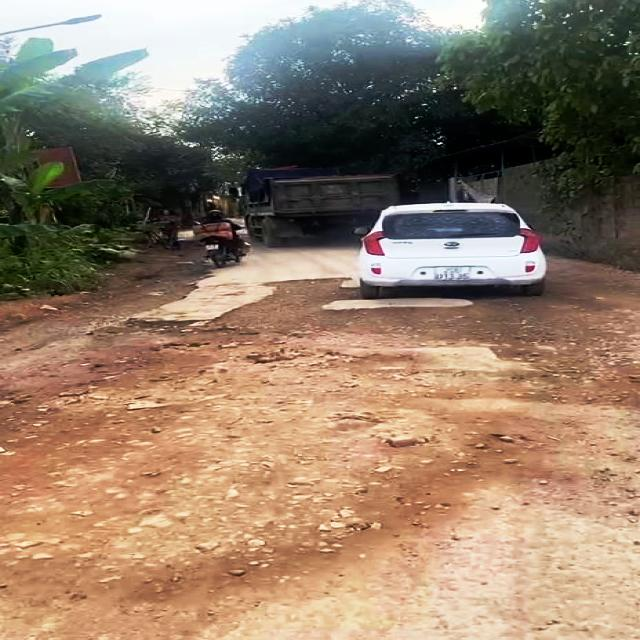pothole: (0, 318, 350, 422), (376, 293, 640, 412), (208, 278, 380, 352)
